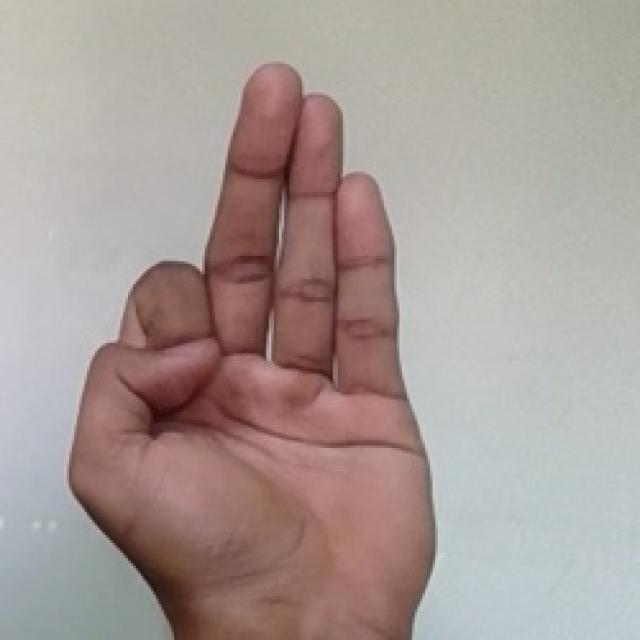Numeric-9: (65, 57, 440, 611)
